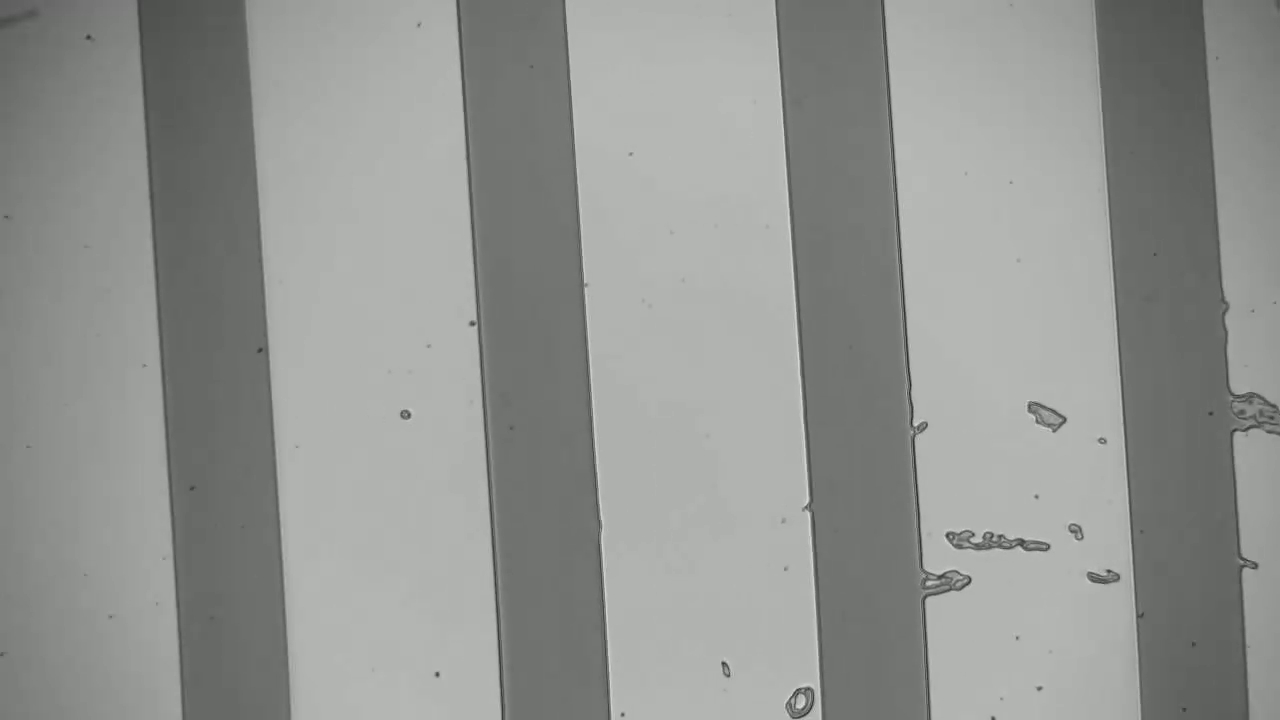edge_bite: (1228, 540, 1273, 582), (1212, 288, 1241, 325), (902, 414, 934, 443)
